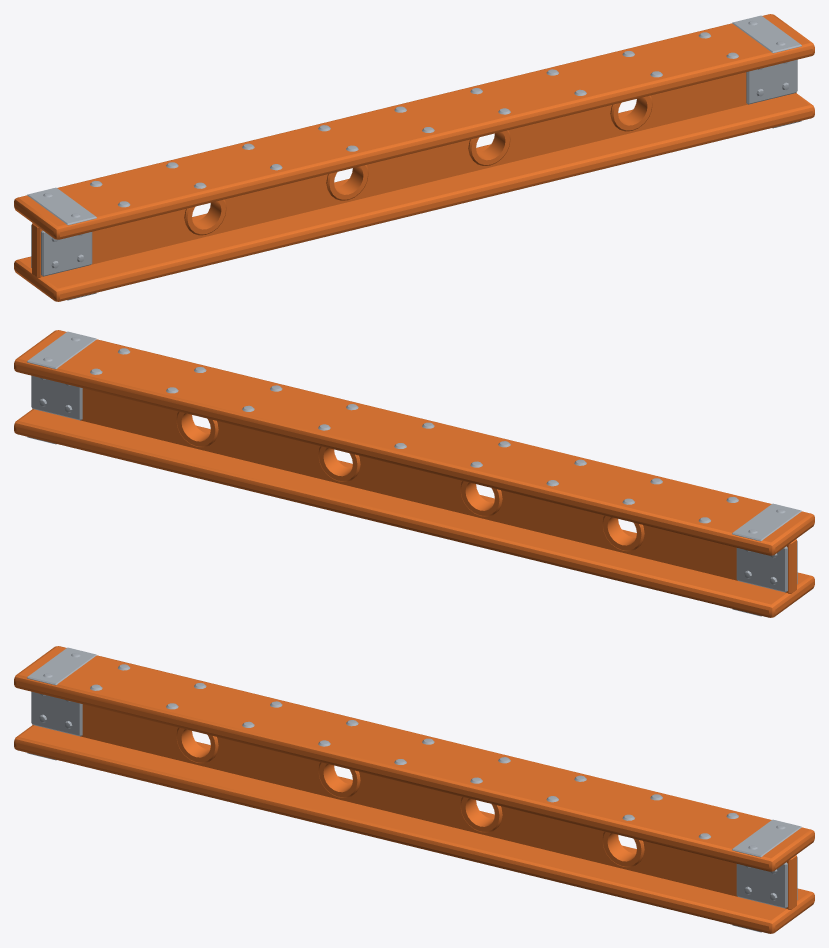
The model's file is part_beam.glb.
3 renders of one model, top to bottom at view 1: azimuth 30°, elevation 25°; view 2: azimuth 150°, elevation 25°; view 3: azimuth 330°, elevation 25°, orthographic.
Parts seen in each view (by area): view 1: Beam; view 2: Beam; view 3: Beam.
Boxes of the visible parts, x1,y1,x2,y2 form: Beam: [14, 14, 814, 301]; Beam: [14, 330, 814, 617]; Beam: [14, 646, 814, 933].
Bounding box in the file's own units: 3 × 0.3 × 0.3.
